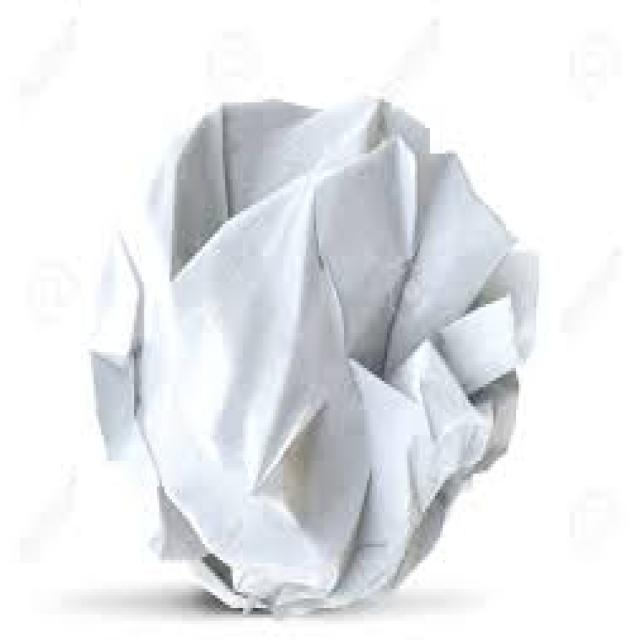paper: (86, 90, 534, 611)
